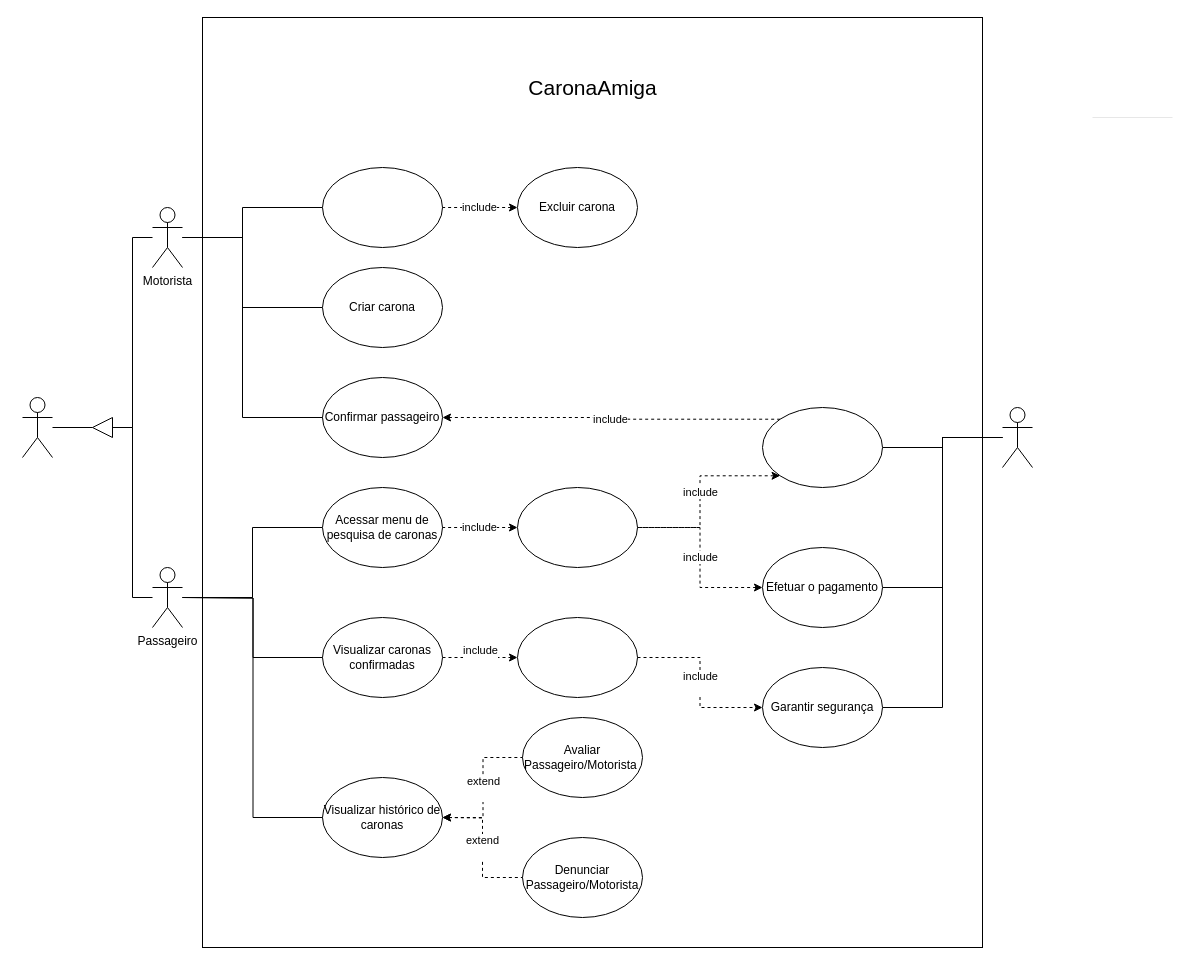
Image size: 1191x965. Some labels were removed from this diagram. Here are the shapes that lost their labels. From the top down, the box of each, then its label:
(322, 166, 442, 248): Visualizar caronas criadas
(22, 396, 52, 458): Usuário
(762, 406, 882, 488): Notificar o motorista
(1002, 406, 1032, 468): Sistema do App
(516, 486, 638, 568): Selecionar carona
(516, 616, 638, 698): Acompanhar localização
